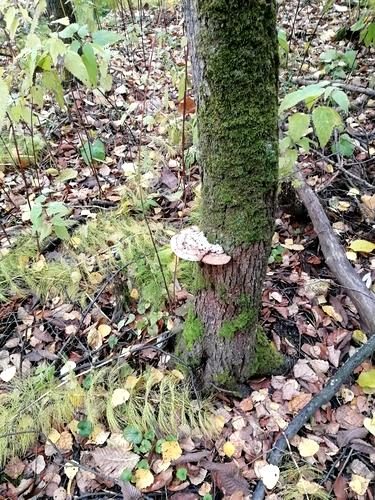Ganoderma - Fruit Body: (170, 219, 234, 266)
